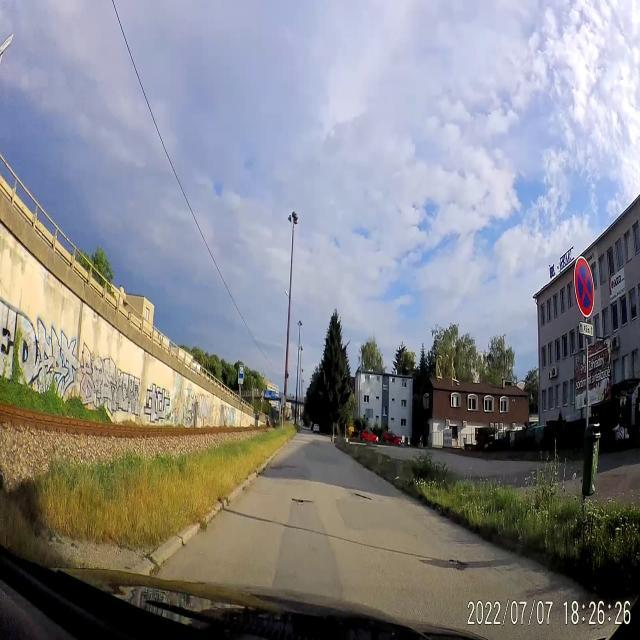Pothole: (348, 484, 372, 512), (270, 458, 293, 478), (444, 558, 472, 572), (291, 494, 312, 509)
